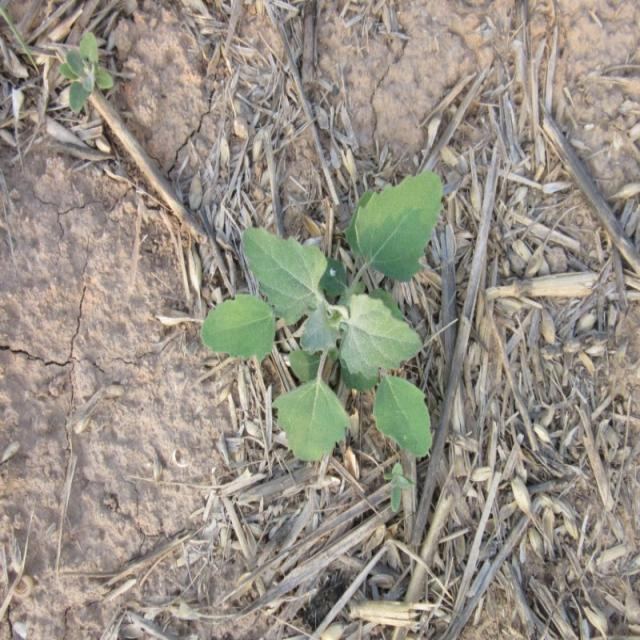ca: (204, 176, 441, 458)
